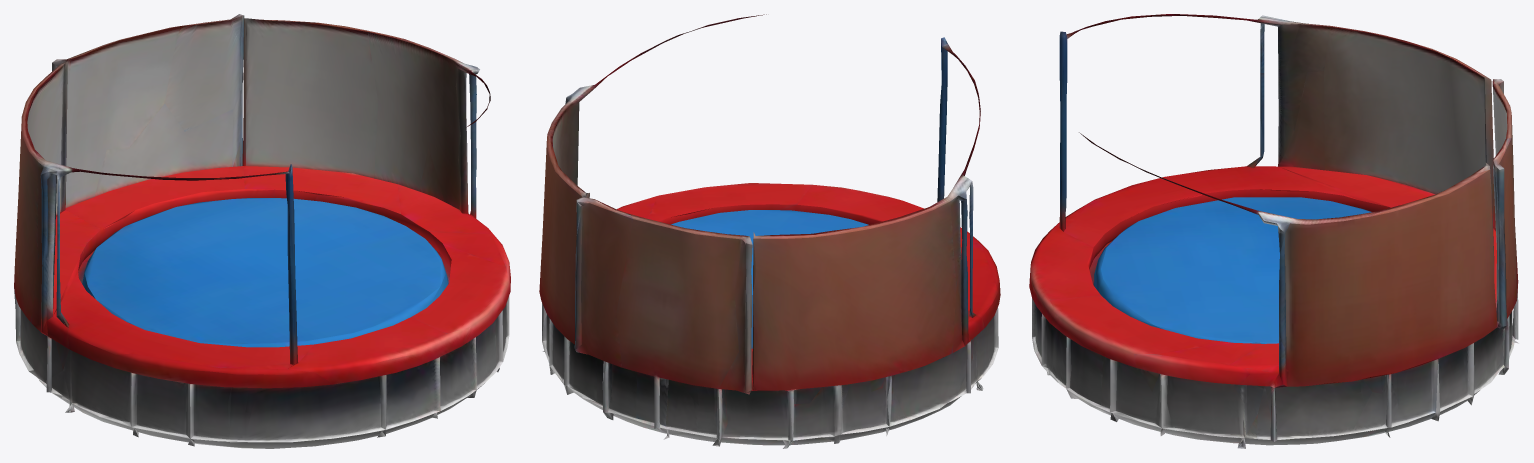
The model's file is m2Trampoline.glb.
3 renders of one model, left to right at view 1: azimuth 30°, elevation 25°; view 2: azimuth 150°, elevation 25°; view 3: azimuth 270°, elevation 25°, orthographic. The views are drawn at different scales.
Parts seen in each view (by area): view 1: model; view 2: model; view 3: model.
Boxes of the visible parts, box(x1,y1,x2,y2) form: model: box(14, 14, 510, 448); model: box(539, 14, 1000, 448); model: box(1029, 14, 1518, 448).
Size of the model in its own units: 1.9 by 1.18 by 1.88.
1 material, 1 textured.
